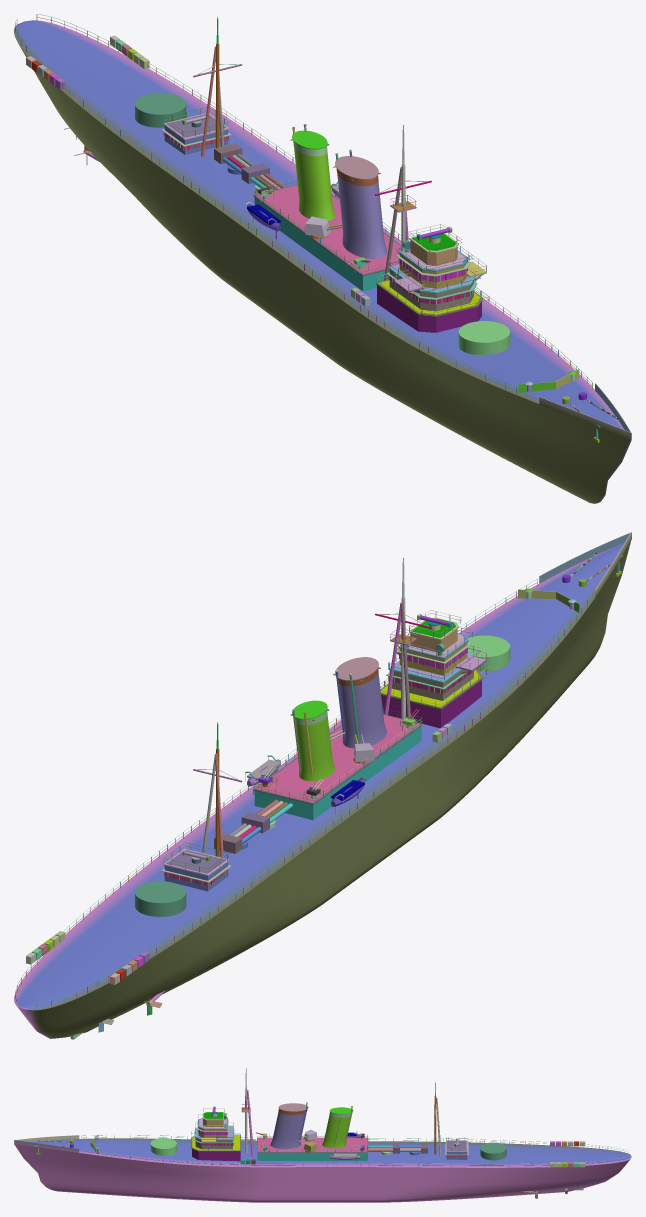
3 views of the same model, one above another, from view 1: azimuth 30°, elevation 25°; view 2: azimuth 150°, elevation 25°; view 3: azimuth 270°, elevation 25° (orthographic). The views are drawn at different scales.
Visible parts, largest first — view 1: hull; view 2: hull; view 3: hull.
Boxes of the visible parts, <box> form: hull: <box>14,14,631,503</box>; hull: <box>14,532,631,1039</box>; hull: <box>14,1068,631,1202</box>.
Size of what is drawn, in the model's own units: 16.82 by 36.39 by 165.
